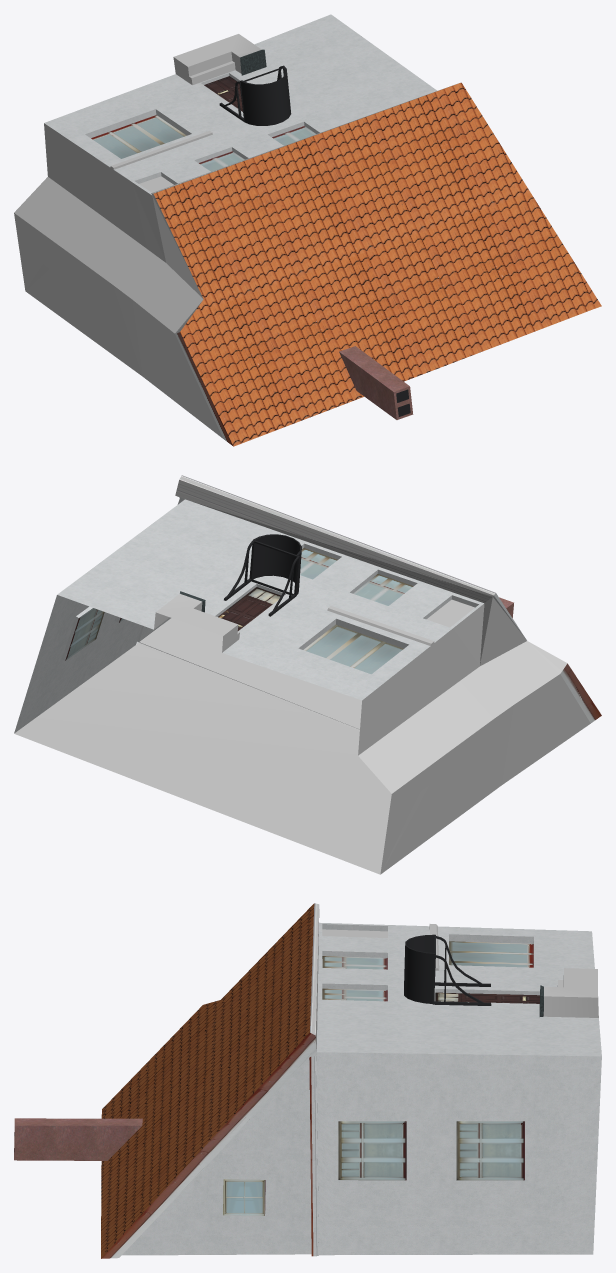
Rendered from Ryytli_30.obj.
3 views of the same model, one above another, from view 1: azimuth 30°, elevation 25°; view 2: azimuth 150°, elevation 25°; view 3: azimuth 270°, elevation 25° (orthographic). The views are drawn at different scales.
Visible parts, largest first — view 1: Ryytli_30; view 2: Ryytli_30; view 3: Ryytli_30.
Part boxes in pixels (bbox=[...]): Ryytli_30: bbox=[14, 14, 601, 446]; Ryytli_30: bbox=[14, 475, 601, 874]; Ryytli_30: bbox=[14, 903, 601, 1258].
Bounding box in the file's own units: 12.41 × 7.18 × 14.39.
